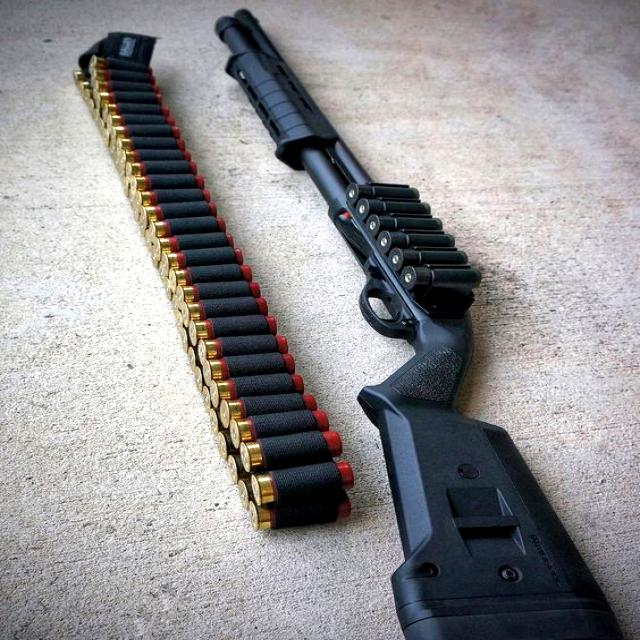shotgun: (206, 6, 634, 640)
